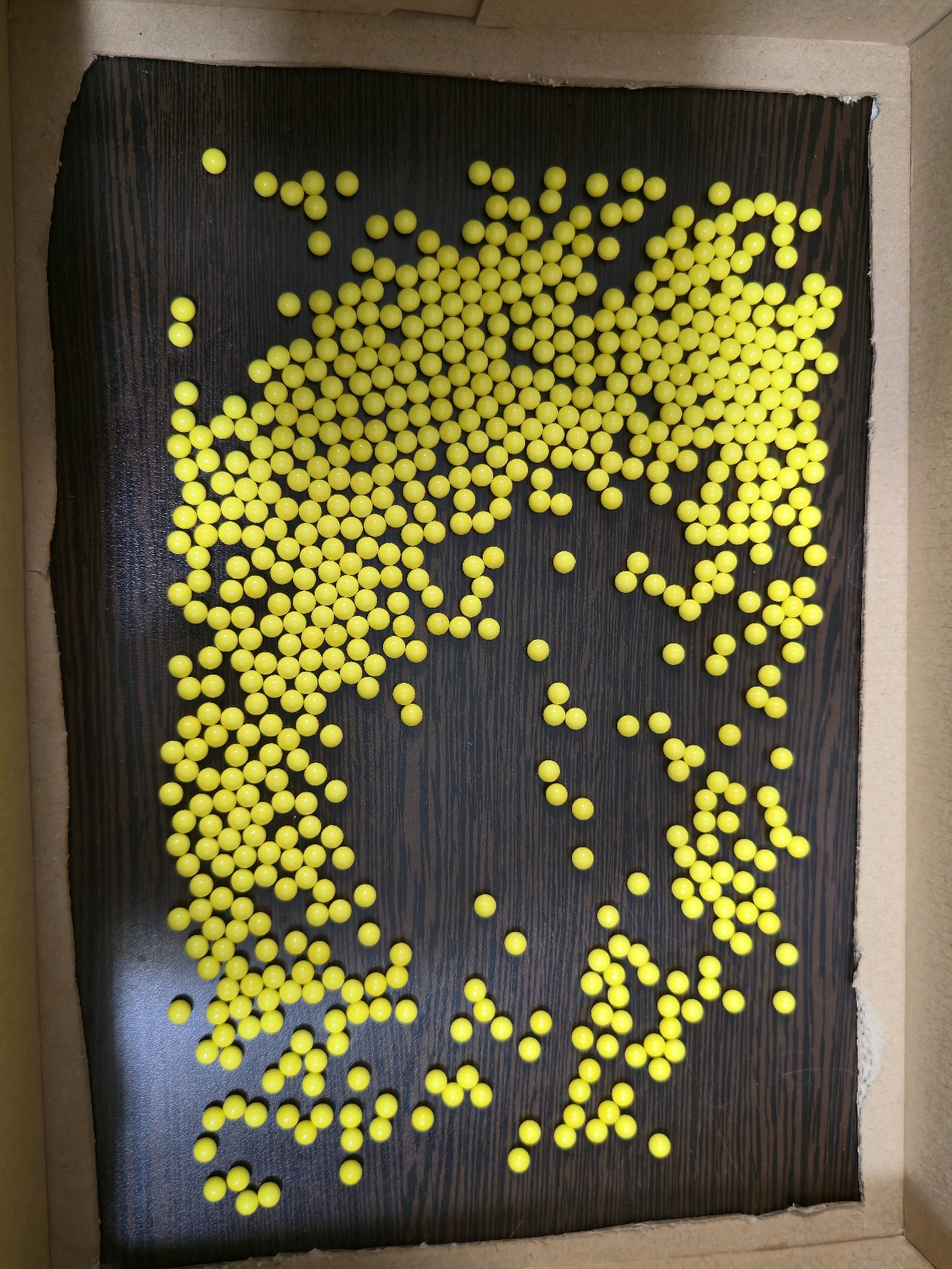yellow_bead: (775, 832, 805, 852), (208, 154, 221, 168), (226, 502, 239, 515), (180, 463, 193, 476), (202, 454, 215, 467), (177, 414, 190, 427), (228, 401, 241, 414), (296, 1035, 308, 1049), (173, 588, 187, 600), (202, 506, 216, 518), (524, 1125, 536, 1138), (316, 1110, 328, 1123), (524, 1043, 536, 1056), (243, 1022, 256, 1034), (400, 1005, 412, 1018), (686, 1004, 698, 1017), (586, 977, 598, 990), (309, 849, 321, 862), (223, 833, 236, 845), (195, 799, 208, 811), (165, 788, 178, 800), (245, 675, 258, 687), (283, 639, 296, 651), (220, 634, 233, 646), (225, 585, 238, 597), (193, 575, 206, 587), (298, 573, 311, 585), (231, 562, 244, 574), (192, 551, 205, 563), (282, 543, 295, 555), (173, 536, 186, 548), (224, 527, 237, 539), (269, 523, 282, 535), (251, 505, 263, 518), (239, 483, 252, 495), (216, 477, 229, 489), (180, 387, 193, 399), (816, 312, 829, 324), (617, 1088, 628, 1102), (462, 1071, 473, 1085), (616, 1015, 627, 1029), (328, 971, 339, 985), (187, 487, 201, 498), (345, 1110, 357, 1122), (267, 1076, 279, 1088), (602, 1041, 614, 1053), (663, 1000, 675, 1012), (672, 976, 684, 988), (268, 971, 280, 983), (632, 949, 644, 961), (782, 948, 794, 960), (763, 917, 775, 929), (312, 908, 324, 920), (318, 884, 330, 896), (280, 883, 292, 895), (196, 879, 208, 891), (738, 877, 750, 889), (300, 872, 312, 884), (217, 859, 229, 871), (263, 846, 275, 858), (281, 831, 293, 843), (248, 829, 260, 841), (178, 815, 190, 827), (300, 797, 312, 809), (277, 796, 289, 808), (242, 790, 254, 802), (271, 774, 283, 786), (249, 766, 261, 778), (181, 765, 193, 777), (265, 719, 277, 731), (251, 698, 263, 710), (207, 680, 219, 692), (213, 612, 225, 624), (317, 611, 329, 623), (320, 588, 332, 600), (178, 511, 190, 523), (281, 503, 293, 515), (794, 492, 806, 504), (264, 486, 276, 498), (254, 465, 266, 477), (276, 457, 288, 469), (231, 457, 243, 469), (256, 441, 268, 453), (277, 431, 289, 443), (240, 423, 252, 435), (257, 407, 269, 419), (805, 343, 817, 355), (738, 204, 750, 216), (513, 1154, 524, 1167), (654, 1139, 665, 1152), (381, 1099, 392, 1112), (476, 1089, 487, 1102), (431, 1076, 442, 1089), (456, 1024, 467, 1037), (496, 1022, 507, 1035), (597, 1008, 608, 1021), (779, 996, 790, 1009), (261, 944, 272, 957), (614, 940, 625, 953), (736, 937, 747, 950), (510, 937, 521, 950), (603, 910, 614, 923), (759, 855, 772, 866), (190, 743, 203, 754), (304, 655, 317, 666), (244, 633, 257, 644), (247, 531, 260, 542), (173, 440, 184, 453), (199, 530, 213, 540), (591, 1125, 602, 1137), (574, 1085, 585, 1097), (654, 1065, 666, 1076), (310, 1055, 321, 1067), (225, 1053, 237, 1064), (329, 1016, 341, 1027), (174, 1006, 185, 1018), (728, 995, 739, 1007), (347, 985, 358, 997), (704, 983, 715, 995), (643, 968, 654, 980), (609, 968, 620, 980), (704, 961, 716, 972), (395, 948, 406, 960), (218, 944, 229, 956), (290, 937, 302, 948), (364, 928, 375, 940), (231, 926, 243, 937), (208, 922, 219, 934), (335, 905, 346, 917), (718, 902, 730, 913), (237, 902, 248, 914), (759, 893, 771, 904), (216, 893, 228, 904), (359, 890, 370, 902), (633, 878, 644, 890), (260, 870, 272, 881), (286, 854, 298, 865), (577, 852, 588, 864), (338, 852, 349, 864), (239, 851, 250, 863), (327, 831, 338, 843), (205, 820, 216, 832), (722, 817, 734, 828), (234, 812, 245, 824), (577, 803, 588, 815), (330, 786, 342, 797), (226, 773, 238, 784), (310, 768, 321, 780), (292, 754, 304, 765), (265, 749, 277, 760), (326, 730, 337, 742), (286, 695, 298, 706), (553, 688, 565, 699), (324, 675, 335, 687), (345, 667, 357, 678), (788, 647, 800, 658), (388, 642, 400, 653), (483, 623, 495, 634), (266, 620, 277, 632), (237, 611, 248, 623), (190, 606, 202, 617), (338, 603, 350, 614), (274, 598, 286, 609), (360, 594, 372, 605), (276, 567, 288, 578), (559, 556, 570, 568), (810, 550, 822, 561), (361, 542, 373, 553), (794, 531, 806, 542), (323, 521, 335, 532), (370, 519, 381, 531), (390, 510, 402, 521), (419, 506, 431, 517), (304, 506, 316, 517), (332, 500, 344, 511), (377, 492, 388, 504), (314, 485, 326, 496), (293, 474, 305, 485), (333, 473, 345, 484), (782, 472, 794, 483), (454, 472, 466, 483), (477, 469, 488, 481), (377, 469, 389, 480), (808, 467, 820, 478), (713, 466, 724, 478), (399, 464, 411, 475), (764, 463, 775, 475), (750, 446, 762, 457), (380, 446, 392, 457), (548, 428, 559, 440), (739, 427, 750, 439), (776, 412, 788, 423), (730, 408, 741, 420), (541, 407, 553, 418), (765, 393, 777, 404), (524, 393, 536, 404), (270, 387, 282, 398), (801, 375, 813, 386), (288, 370, 299, 382), (273, 352, 284, 364), (782, 310, 794, 321), (758, 310, 770, 321), (825, 292, 837, 303), (808, 279, 820, 290), (781, 251, 792, 263), (748, 238, 759, 250), (777, 229, 788, 241), (779, 207, 791, 218), (760, 199, 771, 211), (286, 188, 298, 199), (264, 1189, 274, 1202), (354, 1073, 364, 1086), (470, 984, 480, 997), (242, 729, 255, 739), (226, 713, 239, 723), (203, 708, 216, 718), (799, 323, 812, 333), (375, 1125, 386, 1136), (263, 995, 274, 1006), (195, 905, 206, 916), (687, 902, 698, 913), (480, 900, 491, 911), (705, 885, 716, 896), (678, 883, 689, 894), (718, 867, 729, 878), (695, 866, 706, 877), (680, 851, 691, 862), (702, 839, 713, 850), (701, 794, 712, 805), (763, 791, 774, 802), (551, 789, 562, 800), (310, 698, 321, 709), (399, 688, 410, 699), (370, 660, 381, 671), (260, 658, 271, 669), (237, 655, 248, 666), (328, 653, 339, 664), (353, 644, 364, 655), (393, 597, 404, 608), (774, 585, 785, 596), (477, 582, 488, 593), (649, 579, 660, 590), (620, 576, 631, 587), (324, 566, 335, 577), (468, 561, 479, 572), (721, 556, 732, 567), (384, 548, 395, 559), (429, 527, 440, 538), (346, 522, 357, 533), (356, 501, 367, 512), (556, 499, 567, 510), (459, 495, 470, 506), (706, 487, 717, 498), (434, 481, 445, 492), (536, 473, 547, 484), (512, 464, 523, 475), (606, 457, 617, 468), (420, 454, 431, 465), (792, 453, 803, 464), (556, 452, 567, 463), (492, 452, 503, 463), (726, 448, 737, 459), (533, 446, 544, 457), (298, 443, 309, 454), (596, 437, 607, 448), (509, 437, 520, 448), (423, 431, 434, 442), (325, 428, 336, 439), (371, 425, 382, 436), (298, 393, 309, 404), (391, 391, 402, 402), (377, 371, 388, 382), (821, 358, 832, 369), (490, 341, 501, 352), (769, 289, 780, 300), (747, 288, 758, 299), (727, 281, 738, 292), (260, 179, 271, 190), (631, 1050, 641, 1062), (332, 1040, 344, 1050), (266, 1018, 278, 1028), (192, 941, 202, 953), (718, 925, 730, 935), (182, 859, 194, 869), (672, 831, 684, 841), (544, 765, 554, 777), (776, 754, 788, 764), (669, 744, 681, 754), (183, 682, 195, 692), (283, 662, 295, 672), (750, 629, 762, 639), (744, 597, 756, 607), (799, 582, 811, 592), (327, 544, 339, 554), (300, 529, 312, 539), (804, 512, 816, 522), (779, 510, 791, 520), (811, 446, 823, 456), (781, 434, 793, 444), (219, 421, 229, 433), (302, 420, 314, 430), (761, 332, 771, 344), (579, 1032, 588, 1045), (623, 1120, 631, 1134), (234, 1175, 244, 1186), (613, 991, 624, 1001), (308, 988, 319, 998), (392, 972, 402, 983), (204, 963, 214, 974), (254, 918, 265, 928), (743, 908, 753, 919), (237, 875, 248, 885), (740, 844, 750, 855), (202, 844, 212, 855), (713, 777, 723, 788), (167, 746, 178, 756), (654, 718, 665, 728), (765, 670, 775, 681), (533, 645, 544, 655), (719, 640, 730, 650), (786, 623, 797, 633), (455, 622, 466, 632), (768, 610, 779, 620), (466, 600, 476, 611), (427, 591, 438, 601), (718, 578, 729, 588), (413, 574, 424, 584), (363, 572, 374, 582), (701, 565, 711, 576), (632, 558, 643, 568), (756, 549, 767, 559), (733, 529, 744, 539), (407, 529, 418, 539), (691, 528, 701, 539), (478, 517, 489, 527), (705, 510, 715, 521), (733, 507, 744, 517), (535, 495, 545, 506), (743, 488, 754, 498), (765, 486, 776, 496), (409, 486, 419, 497), (356, 478, 367, 488), (593, 475, 604, 485), (652, 466, 663, 476), (628, 463, 638, 474), (313, 462, 324, 472), (579, 454, 589, 465), (453, 449, 463, 460), (663, 446, 673, 457), (473, 436, 483, 447), (402, 436, 412, 447), (572, 432, 582, 443), (719, 428, 730, 438), (762, 427, 772, 438), (446, 426, 456, 437), (527, 423, 537, 434), (689, 411, 699, 422), (803, 405, 814, 415), (740, 389, 750, 400), (327, 382, 337, 393), (776, 374, 786, 385), (756, 374, 766, 385), (400, 367, 411, 377), (311, 364, 321, 375), (714, 362, 724, 373), (426, 359, 437, 369), (693, 357, 704, 367), (472, 356, 483, 366), (767, 354, 777, 365), (747, 349, 757, 360), (540, 346, 550, 357), (449, 346, 460, 356), (295, 346, 306, 356), (781, 336, 791, 347), (347, 334, 357, 345), (408, 321, 419, 331), (284, 300, 295, 310), (448, 298, 458, 309), (567, 260, 577, 271), (720, 242, 730, 253), (538, 1017, 547, 1029), (222, 986, 234, 995), (233, 962, 242, 974), (283, 733, 295, 742), (362, 682, 374, 691), (289, 620, 301, 629), (345, 558, 357, 567), (257, 555, 269, 564), (735, 367, 744, 379), (174, 661, 187, 669), (179, 328, 187, 341), (353, 1009, 363, 1019), (212, 1009, 222, 1019), (674, 766, 684, 776), (689, 751, 699, 761), (772, 702, 782, 712), (753, 692, 763, 702), (669, 649, 679, 659), (808, 610, 818, 620), (685, 605, 695, 615), (698, 588, 708, 598), (713, 530, 723, 540), (684, 506, 694, 516), (656, 488, 666, 498), (742, 466, 752, 476), (334, 450, 344, 460), (198, 431, 208, 441), (393, 414, 403, 424), (415, 410, 425, 420), (281, 409, 291, 419), (667, 408, 677, 418), (709, 404, 719, 414), (320, 404, 330, 414), (556, 390, 566, 400), (356, 379, 366, 389), (613, 378, 623, 388), (539, 375, 549, 385), (654, 365, 664, 375), (322, 344, 332, 354), (539, 323, 549, 333), (341, 312, 351, 322), (736, 306, 746, 316), (660, 293, 670, 303), (368, 285, 378, 295), (424, 263, 434, 273), (528, 256, 538, 266), (721, 219, 731, 229), (251, 1110, 262, 1119), (219, 1032, 230, 1041), (285, 986, 296, 995), (173, 839, 184, 848), (699, 817, 710, 826), (771, 812, 782, 821), (257, 807, 268, 816), (732, 788, 741, 799), (623, 721, 634, 730), (669, 591, 680, 600), (754, 529, 765, 538), (495, 503, 506, 512), (608, 493, 617, 504), (700, 432, 709, 443), (634, 417, 643, 428), (609, 417, 618, 428), (587, 414, 596, 425), (466, 414, 475, 425), (565, 411, 574, 422), (511, 409, 520, 420), (370, 398, 379, 409), (582, 369, 591, 380), (669, 347, 678, 358), (431, 334, 440, 345), (741, 327, 750, 338), (644, 321, 653, 332), (405, 294, 414, 305), (715, 263, 724, 274), (605, 243, 614, 254), (312, 201, 321, 212), (672, 1045, 680, 1057), (482, 1004, 490, 1016), (299, 966, 307, 978), (174, 913, 182, 925), (231, 749, 243, 757), (268, 684, 280, 692), (305, 555, 318, 562), (712, 660, 722, 669), (399, 620, 409, 629), (408, 552, 418, 561), (678, 430, 687, 440), (483, 402, 493, 411), (460, 392, 469, 402), (660, 387, 670, 396), (414, 387, 424, 396), (721, 384, 730, 394), (701, 379, 710, 389), (637, 379, 647, 388), (518, 371, 527, 381), (363, 353, 372, 363), (685, 334, 694, 344), (370, 331, 379, 341), (450, 323, 459, 333), (721, 321, 730, 331), (387, 311, 396, 321), (559, 310, 568, 320), (469, 309, 478, 319), (640, 299, 649, 309), (507, 286, 516, 296), (547, 269, 556, 279), (380, 265, 390, 274), (715, 187, 725, 196), (651, 183, 660, 193), (219, 795, 230, 803), (202, 774, 213, 782), (411, 646, 422, 654), (433, 618, 444, 626), (456, 518, 467, 526), (623, 399, 631, 410), (409, 344, 417, 355), (707, 338, 715, 349), (430, 309, 438, 320), (469, 286, 477, 297), (402, 272, 413, 280), (654, 242, 662, 253), (451, 1090, 458, 1102), (301, 723, 313, 730), (352, 626, 364, 633), (285, 1063, 294, 1072), (789, 602, 798, 611), (727, 344, 736, 353), (495, 320, 504, 329), (679, 309, 688, 318), (582, 278, 591, 287), (643, 277, 652, 286), (672, 233, 681, 242), (701, 225, 710, 234), (629, 205, 638, 214), (547, 196, 556, 205), (377, 1007, 385, 1017), (728, 730, 736, 740), (307, 632, 317, 640), (684, 455, 692, 465), (655, 427, 663, 437), (678, 369, 686, 379), (606, 337, 614, 347), (471, 332, 479, 342), (678, 279, 686, 289), (330, 629, 341, 636), (367, 307, 374, 318), (238, 1003, 247, 1011), (300, 681, 312, 687), (373, 617, 385, 623), (298, 600, 310, 606), (638, 440, 646, 449), (601, 396, 609, 405), (579, 392, 588, 400), (683, 391, 691, 400), (562, 361, 570, 370), (629, 359, 637, 368), (628, 335, 636, 344), (521, 333, 529, 342), (666, 326, 674, 335), (180, 303, 189, 311), (799, 301, 808, 309), (697, 292, 705, 301), (347, 290, 356, 298), (564, 288, 572, 297), (428, 286, 436, 295), (529, 280, 537, 289), (487, 274, 495, 283), (507, 263, 515, 272), (562, 228, 570, 237), (529, 223, 538, 231), (309, 179, 318, 187), (653, 1040, 660, 1050), (489, 552, 499, 559), (439, 381, 446, 391), (649, 344, 656, 354), (562, 336, 569, 346), (582, 321, 589, 331), (229, 1102, 240, 1108), (594, 954, 605, 960), (304, 826, 315, 832), (700, 316, 708, 324), (681, 211, 689, 219), (594, 180, 602, 188), (344, 180, 352, 188), (347, 1171, 356, 1178), (212, 730, 221, 737), (498, 481, 507, 488), (440, 405, 447, 414), (603, 360, 610, 369), (541, 300, 548, 309), (718, 299, 725, 308), (444, 253, 453, 260), (703, 248, 710, 257), (317, 239, 324, 248), (495, 228, 502, 237), (631, 175, 638, 184), (585, 1066, 591, 1076), (344, 360, 350, 370), (698, 270, 704, 280), (611, 209, 617, 219), (669, 1025, 676, 1033), (624, 313, 631, 321), (361, 255, 368, 263), (402, 218, 410, 225), (500, 176, 508, 183), (477, 169, 485, 176), (570, 719, 581, 724), (261, 366, 266, 377), (604, 315, 610, 324), (521, 308, 527, 317), (489, 251, 495, 260), (518, 204, 524, 213), (406, 714, 416, 719), (214, 1186, 221, 1193), (318, 298, 325, 305), (472, 228, 479, 235), (574, 1114, 580, 1122), (318, 946, 324, 954), (209, 655, 217, 661), (361, 446, 367, 454), (496, 423, 502, 431), (504, 388, 510, 396), (498, 365, 504, 373), (389, 350, 395, 358), (663, 265, 669, 273), (242, 1197, 251, 1202), (684, 254, 689, 263), (553, 714, 560, 720), (449, 276, 455, 283), (580, 212, 586, 219), (202, 1047, 210, 1052), (375, 978, 379, 988), (584, 347, 589, 355), (614, 295, 619, 303), (249, 983, 255, 989), (458, 371, 464, 377), (324, 321, 328, 330), (468, 266, 474, 272), (348, 401, 353, 408), (492, 298, 497, 305), (497, 202, 502, 209), (559, 1131, 564, 1137), (353, 425, 358, 431), (482, 382, 487, 388), (376, 224, 381, 230), (553, 248, 557, 255), (421, 1117, 426, 1122), (183, 727, 188, 732), (792, 356, 798, 360), (805, 219, 808, 226), (353, 1136, 358, 1140), (257, 584, 262, 588), (392, 575, 397, 579), (518, 241, 522, 246), (430, 240, 434, 245), (556, 175, 560, 180), (611, 1111, 614, 1117), (584, 244, 588, 248), (308, 1081, 312, 1084), (786, 394, 789, 398), (182, 313, 186, 316), (316, 1082, 319, 1085), (205, 656, 208, 659), (341, 585, 344, 588), (249, 585, 252, 588), (350, 585, 353, 588), (808, 428, 811, 431), (736, 257, 739, 260), (805, 215, 808, 218), (211, 1053, 213, 1056), (756, 508, 757, 513), (569, 1135, 571, 1137), (208, 1117, 210, 1119), (760, 505, 764, 506), (801, 428, 803, 430), (804, 427, 808, 428), (759, 409, 761, 411), (809, 301, 811, 303), (754, 408, 757, 409), (810, 214, 813, 215), (549, 714, 550, 716), (765, 507, 767, 508), (789, 358, 791, 359), (741, 256, 743, 257), (203, 1147, 204, 1148), (255, 588, 256, 589), (205, 442, 206, 443), (259, 365, 260, 366), (814, 215, 815, 216), (210, 1188, 210, 1189), (208, 1148, 208, 1148), (800, 433, 800, 434), (751, 411, 752, 411), (791, 393, 794, 393)
